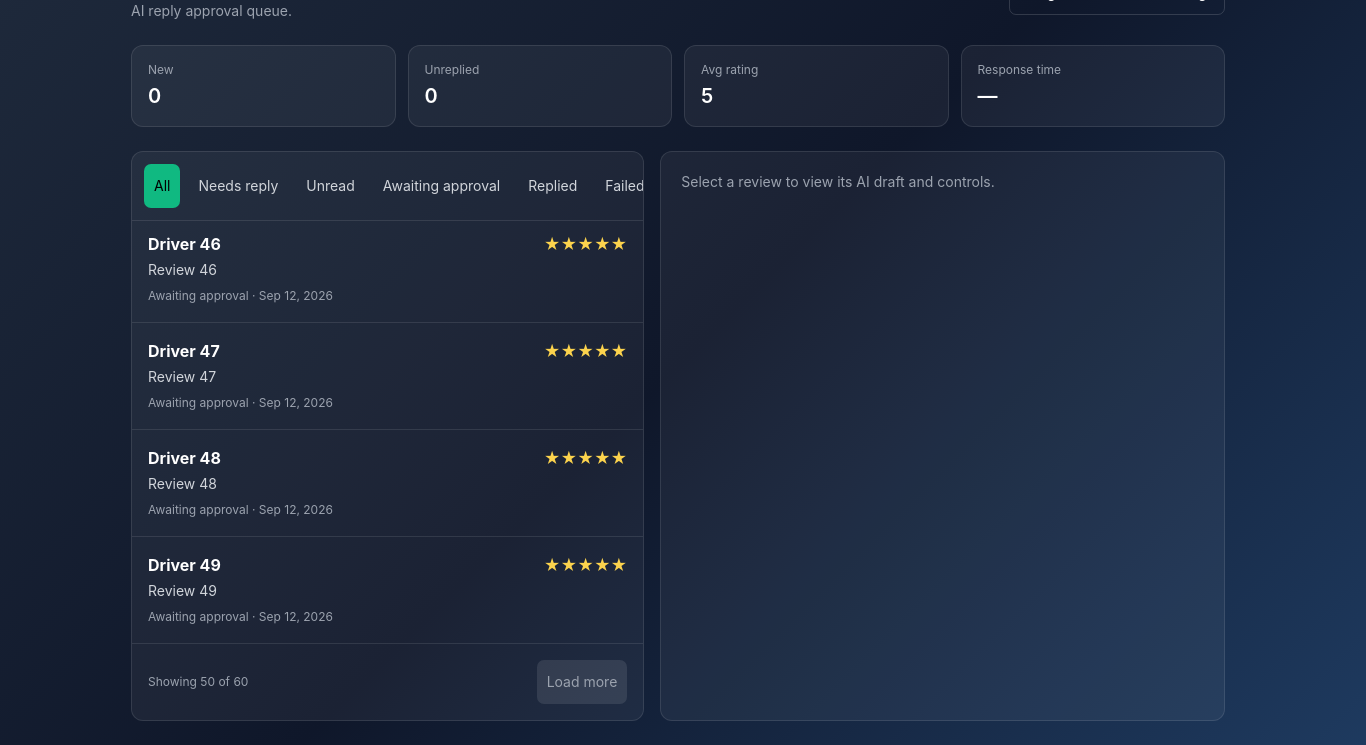
GoogleReviewsPage history and replied reviews › loads the rest of the history on demand
(page scrolled)
Check: the text "Showing 50 of 60" is shown, box [148, 674, 248, 690]
Click the button "Load more" at (582, 682), box [537, 660, 627, 704]
(page scrolled)
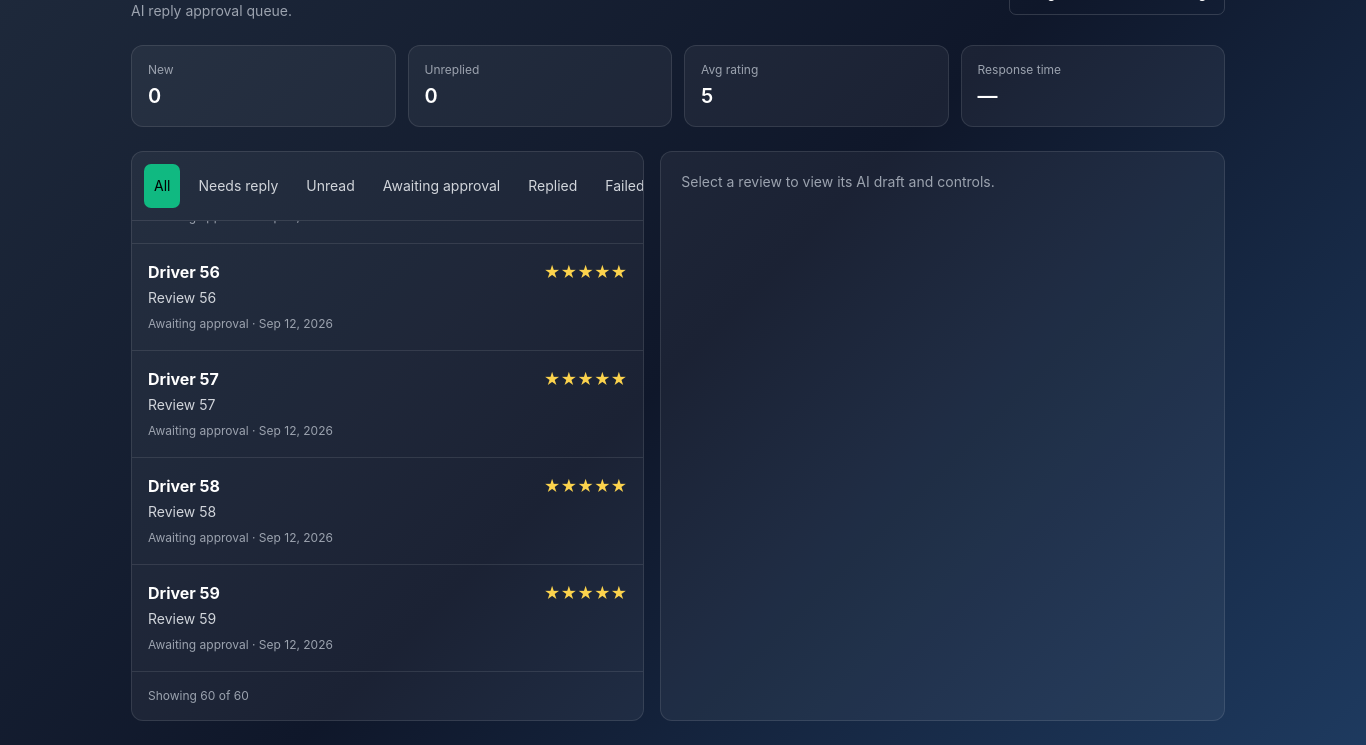
Check: the text "Showing 60 of 60" is shown, box [148, 688, 249, 704]
Check: the button "Load more" is gone
